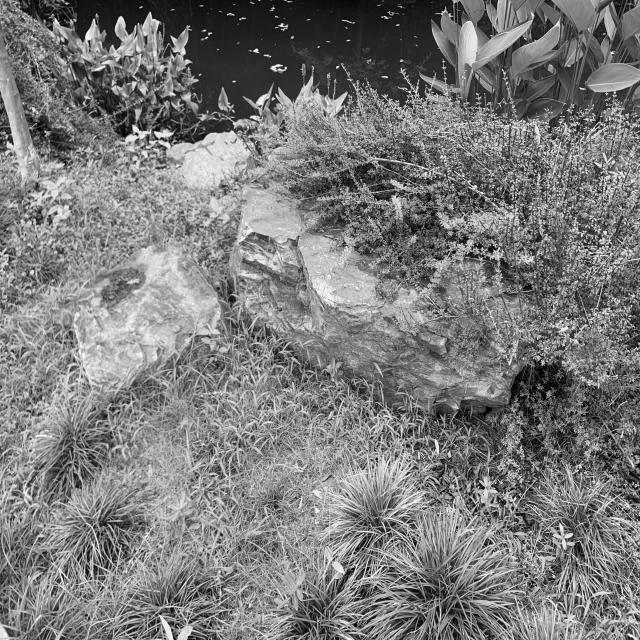Stone: (230, 174, 519, 410), (58, 245, 224, 393)
